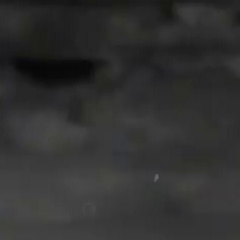Target: (153, 173, 160, 183)
